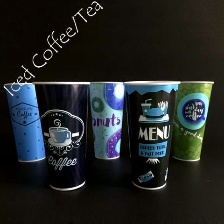paper_cup: (29, 76, 96, 194), (119, 75, 183, 194), (164, 76, 217, 164), (0, 76, 50, 165), (85, 77, 130, 162)
